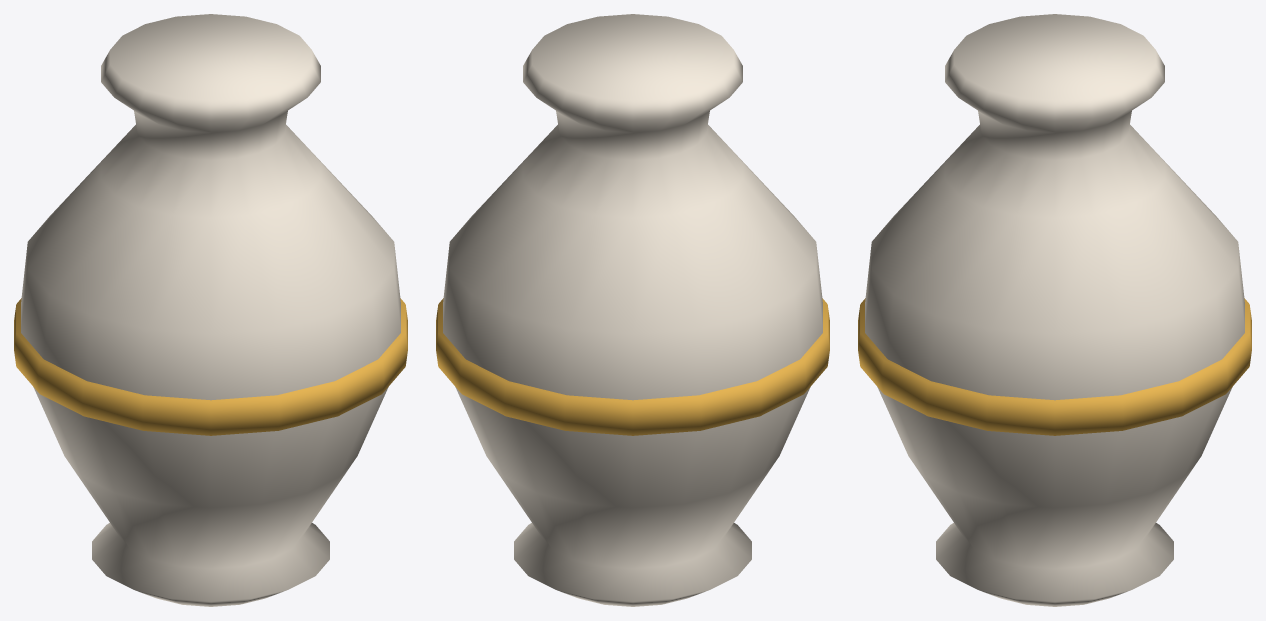
The model's file is vase.glb.
The picture shows the model from 3 angles, left to right: view 1: azimuth 30°, elevation 25°; view 2: azimuth 150°, elevation 25°; view 3: azimuth 270°, elevation 25°; orthographic projection.
Visible parts, largest first — view 1: vase, band; view 2: vase, band; view 3: vase, band.
Part boxes in pixels (<box>): vase: <box>21,14,400,606</box>; band: <box>14,298,407,435</box>; vase: <box>443,14,822,606</box>; band: <box>436,298,829,435</box>; vase: <box>865,14,1244,606</box>; band: <box>858,298,1251,435</box>.
Size of the model in its own units: 0.86 by 1.22 by 0.8469.
